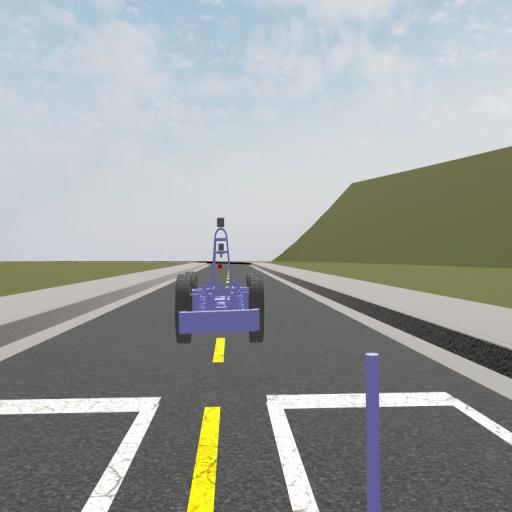ERP-42: (176, 218, 264, 344)
